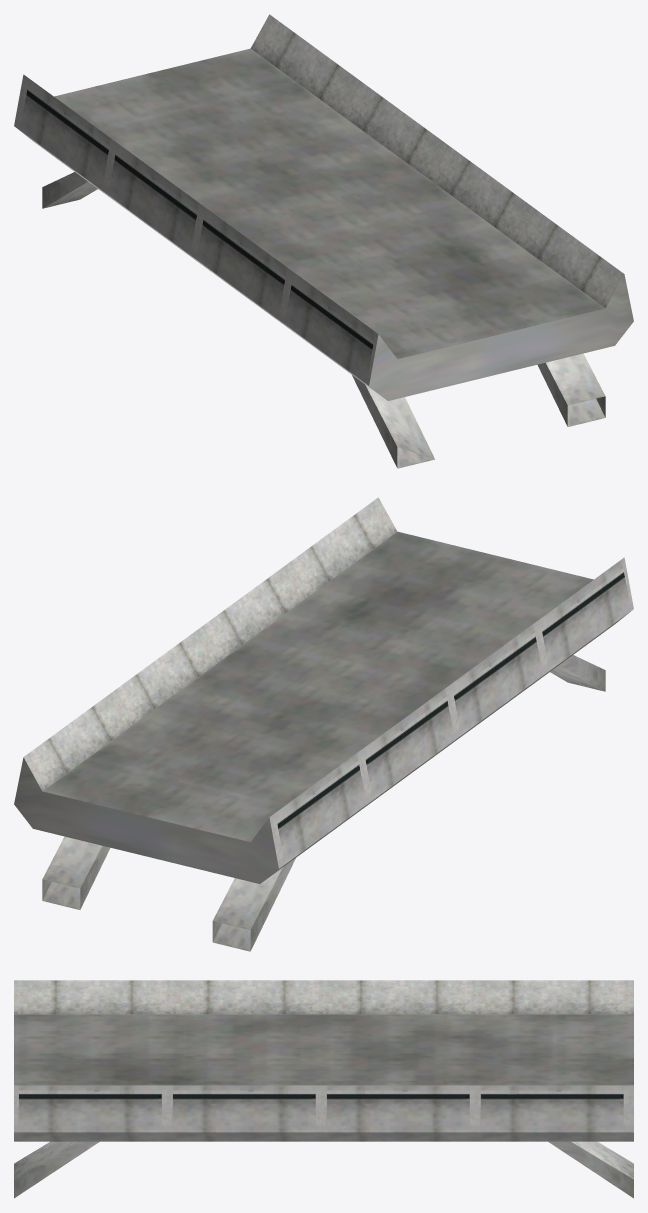
Rendered from thm_corl_imprv_bridge_sm_s01_l3.fbx.
3 views of the same model, one above another, from view 1: azimuth 30°, elevation 25°; view 2: azimuth 150°, elevation 25°; view 3: azimuth 270°, elevation 25° (orthographic). The views are drawn at different scales.
Visible parts, largest first — view 1: mesh_node; view 2: mesh_node; view 3: mesh_node.
Part boxes in pixels (<box>): mesh_node: <box>14,14,633,468</box>; mesh_node: <box>14,497,633,951</box>; mesh_node: <box>14,980,633,1198</box>.
Bounding box in the file's own units: 7 × 3.51 × 16.25.
Materials: 1 (1 with a texture image).
